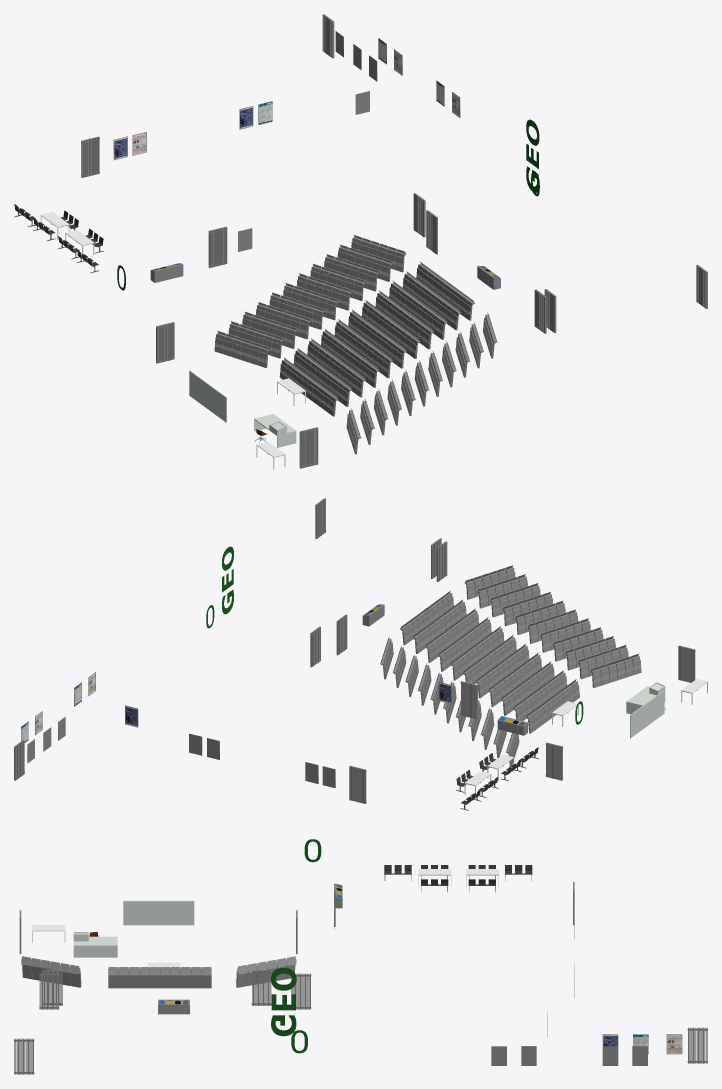
File: 2311B_L0_FRNTR_11.fbx
The picture shows the model from 3 angles, top to bottom: view 1: azimuth 30°, elevation 25°; view 2: azimuth 150°, elevation 25°; view 3: azimuth 270°, elevation 25°; orthographic projection. The views are drawn at different scales.
Parts seen in each view (by area): view 1: LEVEL0_FURNITURE_11, LEVEL0_FURNITURE_10, LEVEL0_FURNITURE_09, LEVEL0_FURNITURE_01, LEVEL0_FURNITURE_08, LEVEL0_FURNITURE_02; view 2: LEVEL0_FURNITURE_11, LEVEL0_FURNITURE_02, LEVEL0_FURNITURE_09, LEVEL0_FURNITURE_08, LEVEL0_FURNITURE_01, LEVEL0_FURNITURE_10, LEVEL0_FURNITURE_323; view 3: LEVEL0_FURNITURE_11, LEVEL0_FURNITURE_10, LEVEL0_FURNITURE_323, LEVEL0_FURNITURE_04, LEVEL0_FURNITURE_03, LEVEL0_FURNITURE_05, LEVEL0_FURNITURE_06, LEVEL0_FURNITURE_00.
Part boxes in pixels (left/top/right/bottom): LEVEL0_FURNITURE_11: left=189, top=370, right=226, bottom=422; LEVEL0_FURNITURE_10: left=254, top=414, right=296, bottom=447; LEVEL0_FURNITURE_09: left=299, top=427, right=318, bottom=468; LEVEL0_FURNITURE_01: left=208, top=226, right=227, bottom=267; LEVEL0_FURNITURE_08: left=156, top=322, right=174, bottom=363; LEVEL0_FURNITURE_02: left=81, top=136, right=99, bottom=177; LEVEL0_FURNITURE_11: left=630, top=690, right=664, bottom=738; LEVEL0_FURNITURE_02: left=349, top=765, right=366, bottom=803; LEVEL0_FURNITURE_09: left=678, top=645, right=695, bottom=682; LEVEL0_FURNITURE_08: left=545, top=742, right=563, bottom=780; LEVEL0_FURNITURE_01: left=460, top=681, right=477, bottom=719; LEVEL0_FURNITURE_10: left=626, top=682, right=665, bottom=714; LEVEL0_FURNITURE_323: left=222, top=546, right=233, bottom=614; LEVEL0_FURNITURE_11: left=123, top=900, right=194, bottom=925; LEVEL0_FURNITURE_10: left=73, top=932, right=117, bottom=957; LEVEL0_FURNITURE_323: left=271, top=967, right=296, bottom=1036; LEVEL0_FURNITURE_04: left=39, top=973, right=59, bottom=1009; LEVEL0_FURNITURE_03: left=14, top=1038, right=34, bottom=1074; LEVEL0_FURNITURE_05: left=687, top=1027, right=707, bottom=1063; LEVEL0_FURNITURE_06: left=251, top=970, right=271, bottom=1005; LEVEL0_FURNITURE_00: left=291, top=973, right=311, bottom=1009.
Bounding box in the file's own units: 27.06 × 9.5 × 39.19.
Materials: 21 (3 with a texture image).
